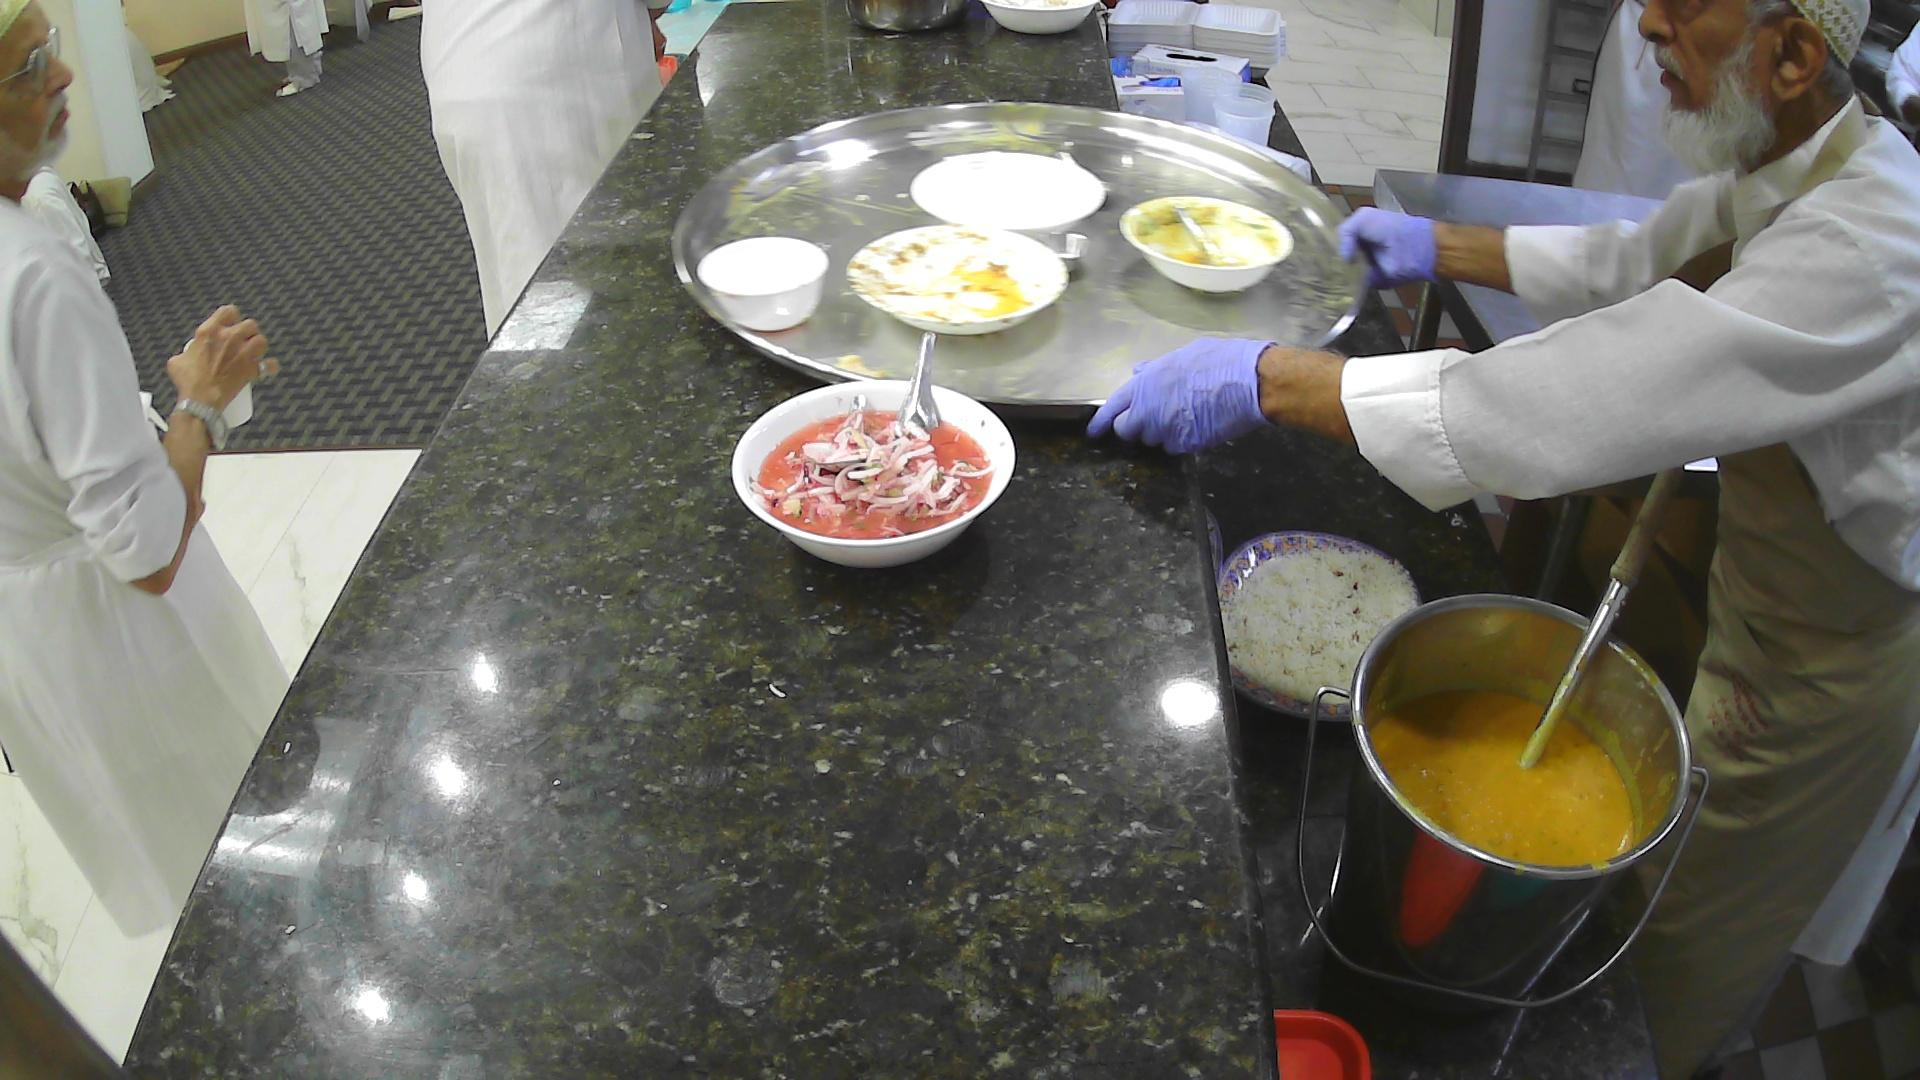thaal: (670, 100, 1377, 422)
